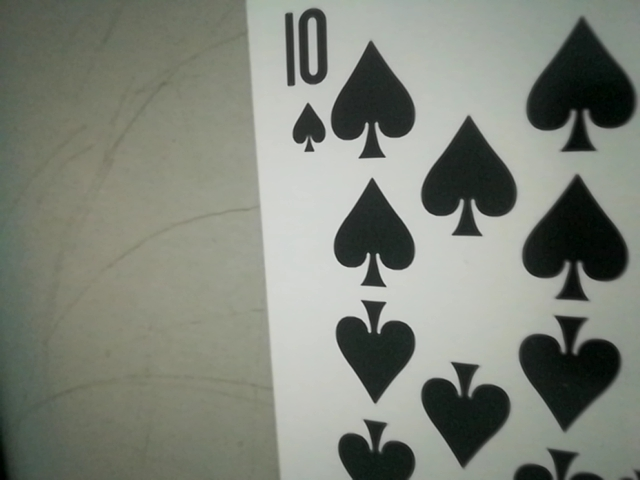ht 10: (269, 4, 343, 157)
